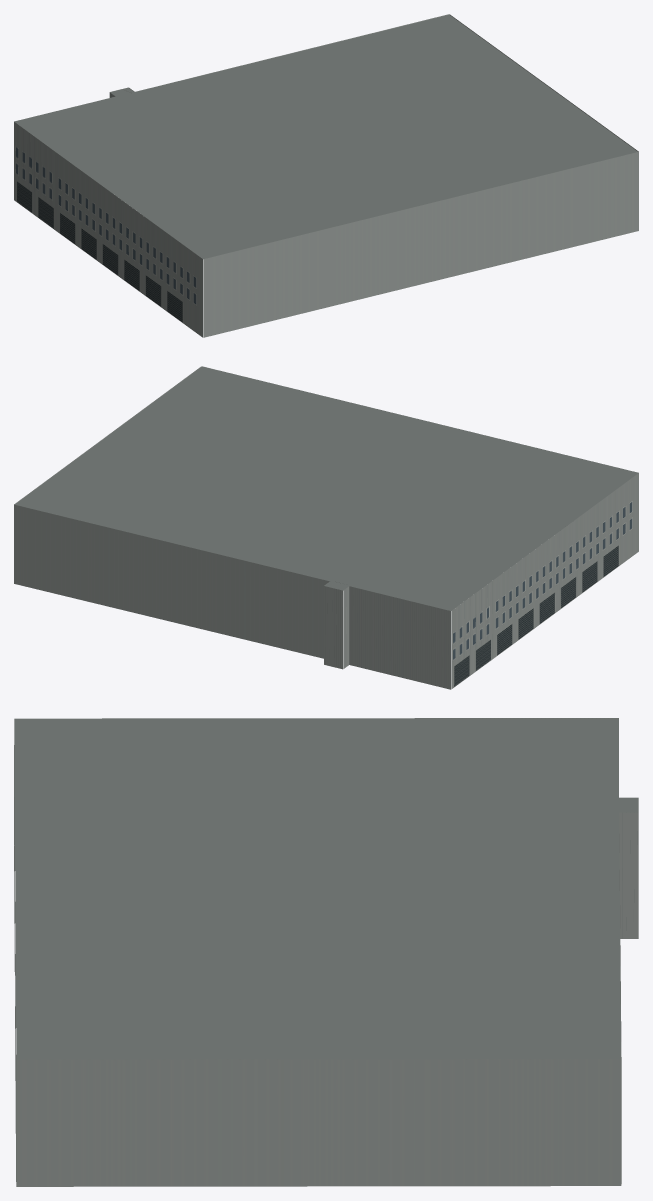
3 renders of one model, top to bottom at view 1: azimuth 30°, elevation 25°; view 2: azimuth 150°, elevation 25°; view 3: azimuth 270°, elevation 25°, orthographic. The views are drawn at different scales.
Parts seen in each view (by area): view 1: 0363100012242125; view 2: 0363100012242125; view 3: 0363100012242125.
Boxes of the visible parts, bbox=[...] form: 0363100012242125: bbox=[14, 14, 638, 337]; 0363100012242125: bbox=[14, 366, 638, 689]; 0363100012242125: bbox=[14, 718, 638, 1186].
Size of the model in its own units: 82.64 by 14.3 by 63.71.
2 materials, 1 textured.
